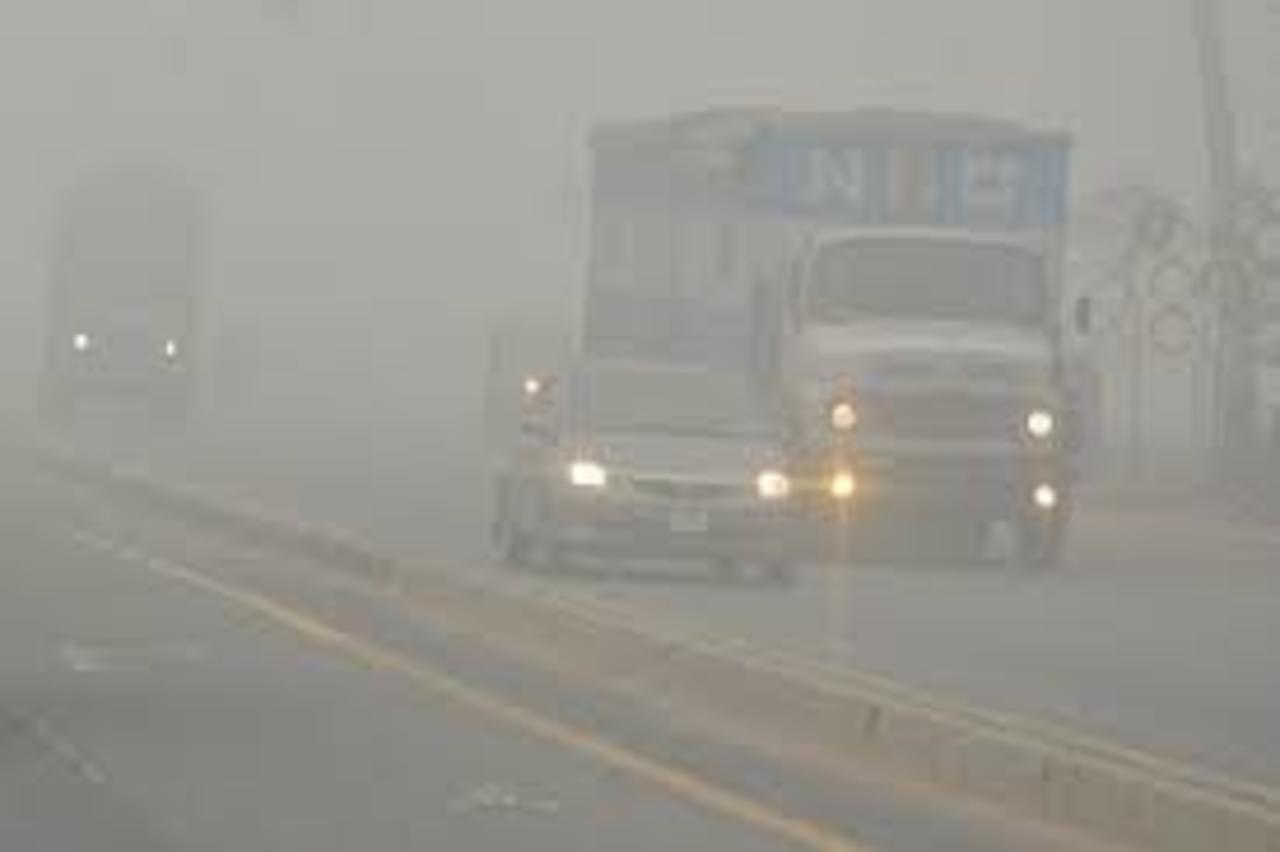car: (506, 356, 797, 591)
truck: (576, 105, 1089, 572), (43, 175, 200, 428)
